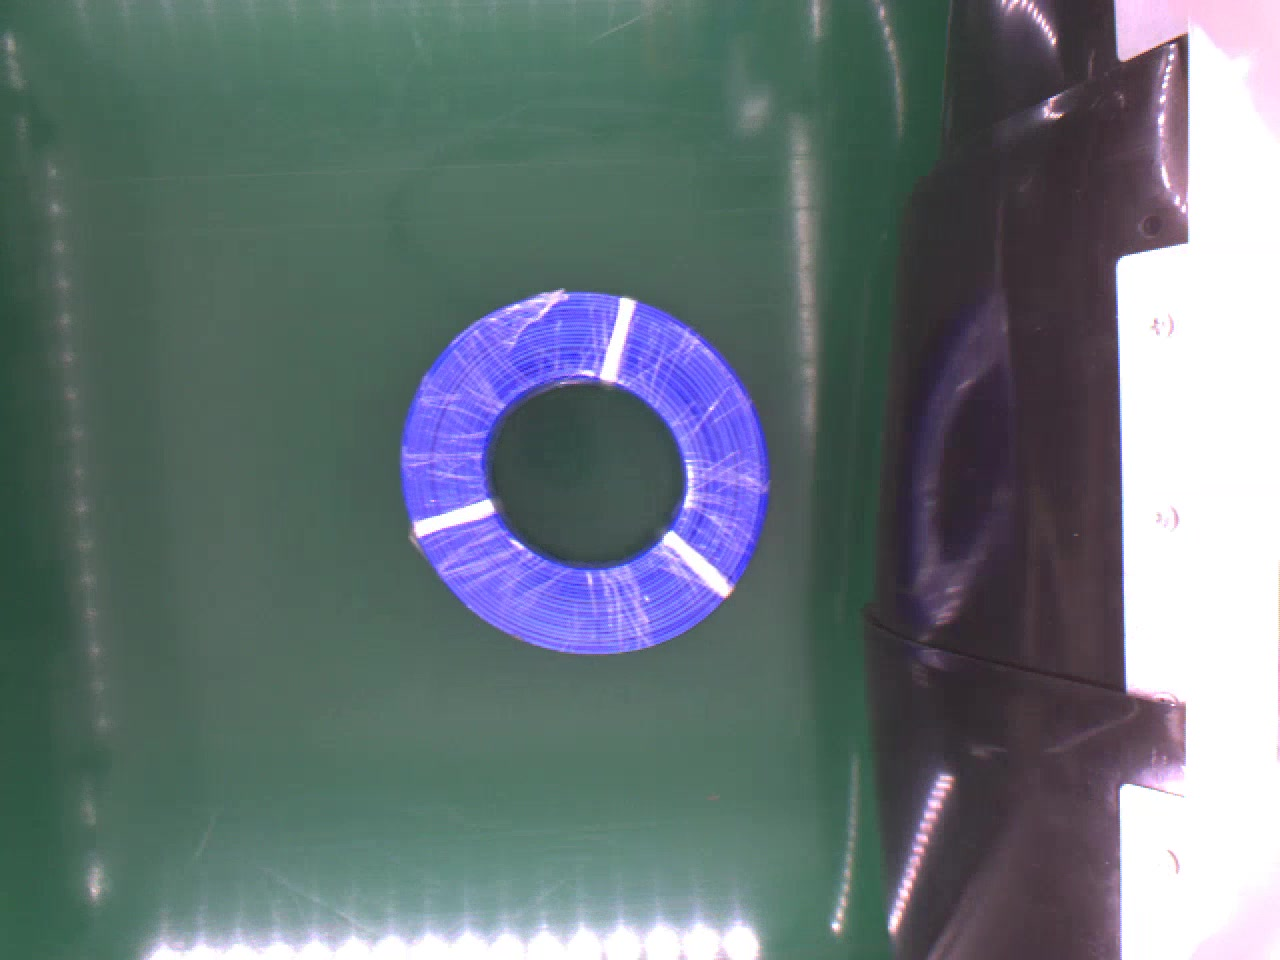blue: (400, 284, 774, 661)
